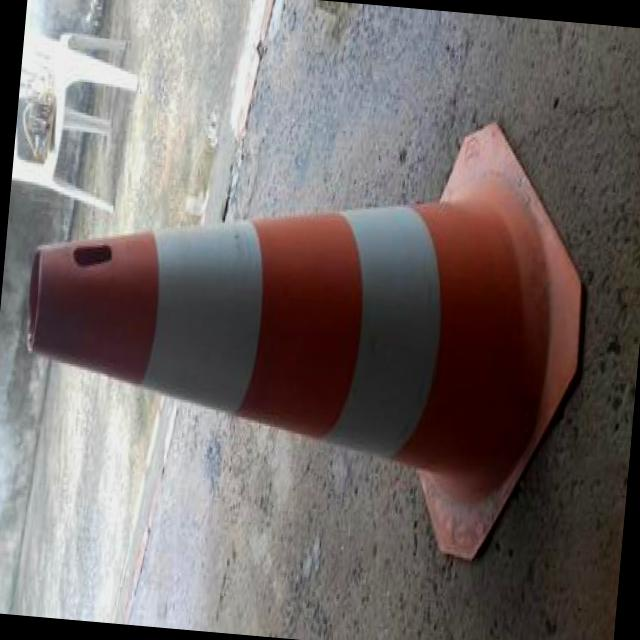cone: (28, 81, 590, 553)
